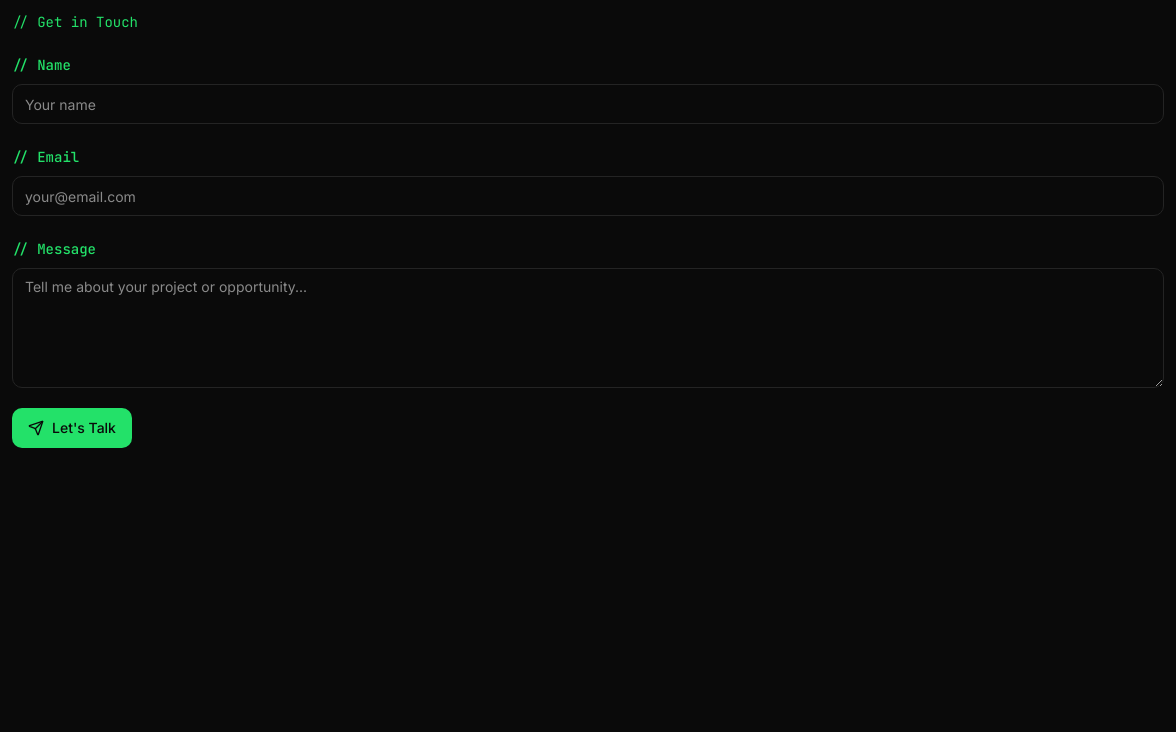
Test case: ContactForm › shows validation errors for empty submit
Click the button "Let's Talk": point(72, 428) [12,408,132,448]
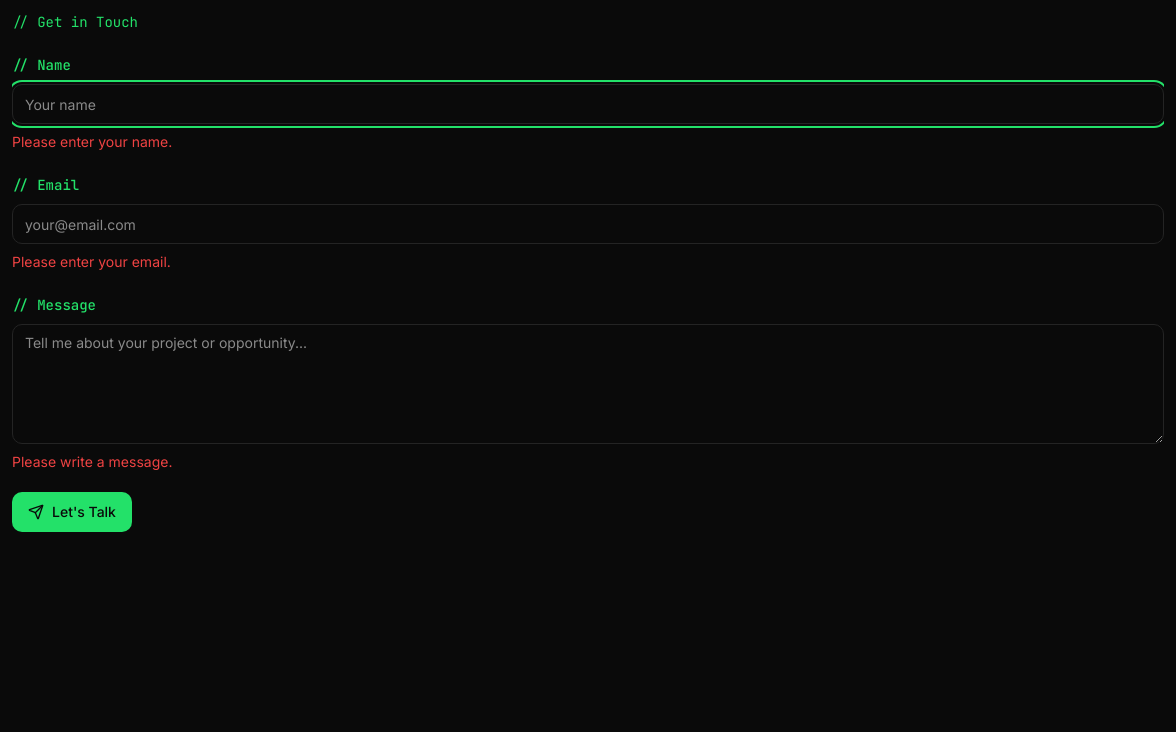
Result: the text "Please enter your name." is shown at [12,133,172,150]
Result: the text "Please enter your email." is shown at [12,253,171,270]
Result: the text "Please write a message." is shown at [12,453,172,470]
